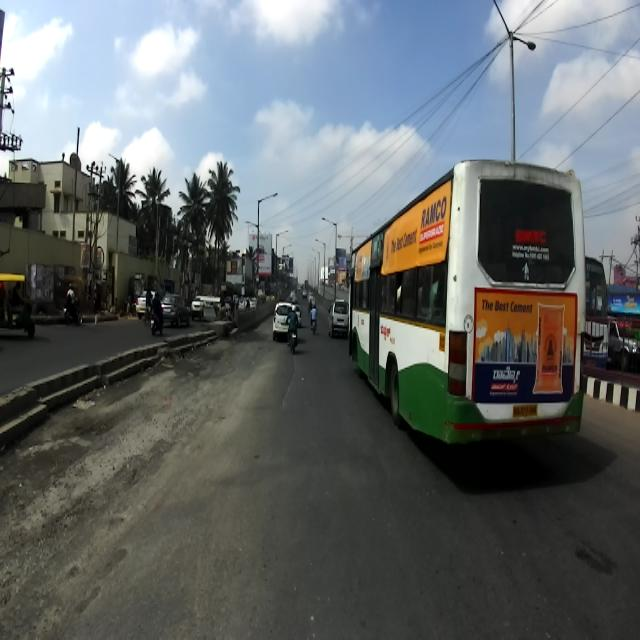bus ahead at: (350, 153, 589, 470)
